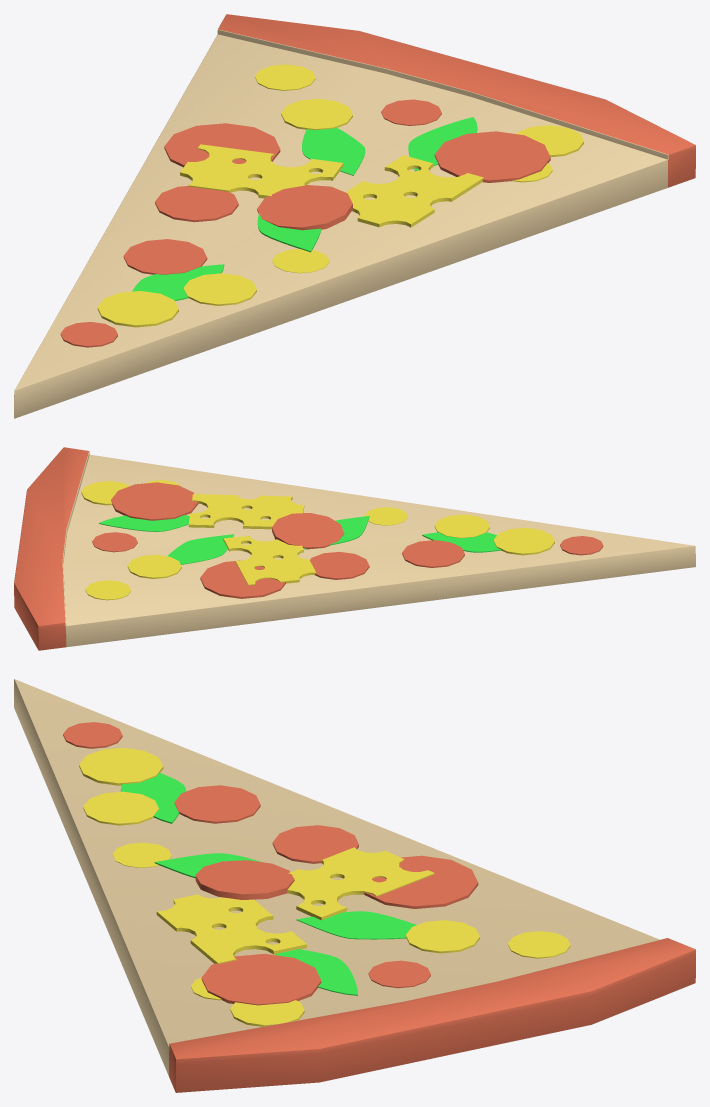
Rendered from Pizza slice.gltf.
The picture shows the model from 3 angles, top to bottom: view 1: azimuth 30°, elevation 25°; view 2: azimuth 150°, elevation 25°; view 3: azimuth 270°, elevation 25°; orthographic projection. The views are drawn at different scales.
Parts seen in each view (by area): view 1: node-0; view 2: node-0; view 3: node-0.
Part boxes in pixels (left/top/right/bottom): node-0: left=14, top=14, right=695, bottom=418; node-0: left=14, top=447, right=695, bottom=650; node-0: left=14, top=679, right=695, bottom=1092.
Size of the model in its own units: 1409 by 67.82 by 1059.
